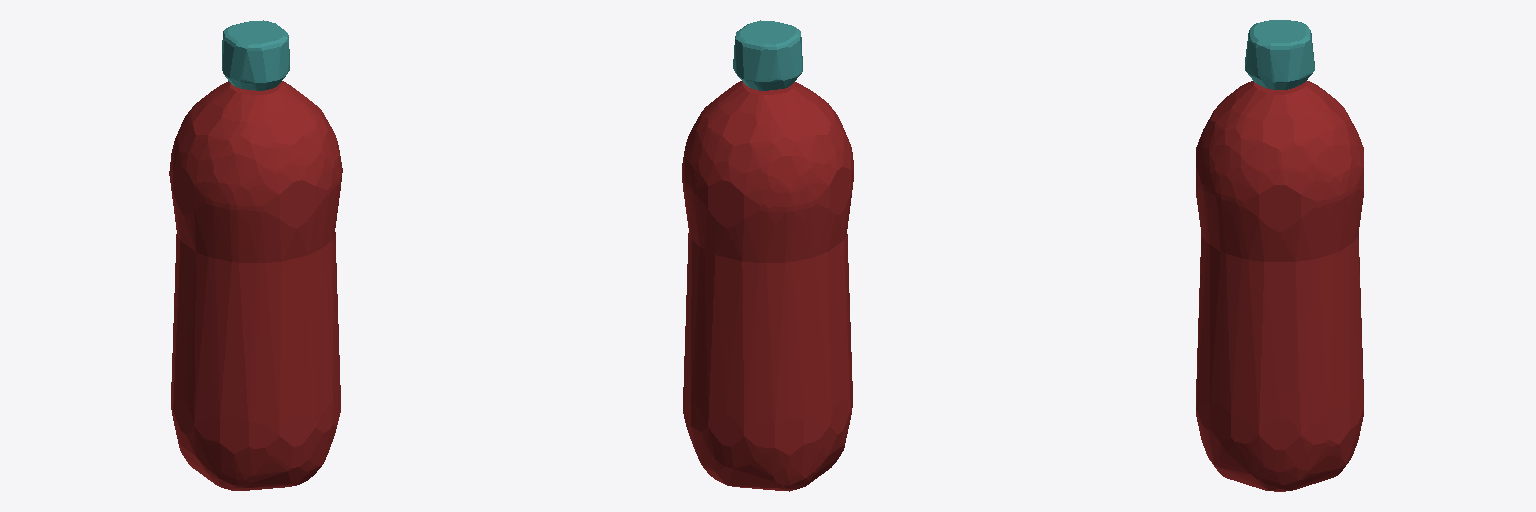
URDF robot description (root):
<robot name="root">
  <link name="bottle_body">
    <inertial>
      <origin xyz="0 0 0" rpy="0 0 0"/>
    </inertial>
    <mass value="1.00E-02"/>
    <visual>
      <origin xyz="0 0 0" rpy="0 0 0"/>
      <geometry>
        <mesh filename="core-bottle-3d295fccf7d4e4dfd317c475f024f3b8-coacd_convex_piece_2.obj" scale="1.0000E-01 1.0000E-01 1.0000E-01"/>
      </geometry>
      <material name="">
        <color rgba="6.00E-01 2.00E-01 2.00E-01 1"/>
      </material>
    </visual>
    <collision>
      <origin xyz="0 0 0" rpy="0 0 0"/>
      <geometry>
        <mesh filename="core-bottle-3d295fccf7d4e4dfd317c475f024f3b8-coacd_convex_piece_2.obj" scale="1.0000E-01 1.0000E-01 1.0000E-01"/>
      </geometry>
    </collision>
    <visual>
      <origin xyz="0 0 0" rpy="0 0 0"/>
      <geometry>
        <mesh filename="core-bottle-3d295fccf7d4e4dfd317c475f024f3b8-coacd_convex_piece_0.obj" scale="1.0000E-01 1.0000E-01 1.0000E-01"/>
      </geometry>
      <material name="">
        <color rgba="6.00E-01 2.00E-01 2.00E-01 1"/>
      </material>
    </visual>
    <collision>
      <origin xyz="0 0 0" rpy="0 0 0"/>
      <geometry>
        <mesh filename="core-bottle-3d295fccf7d4e4dfd317c475f024f3b8-coacd_convex_piece_0.obj" scale="1.0000E-01 1.0000E-01 1.0000E-01"/>
      </geometry>
    </collision>
  </link>
  <link name="bottle_cap">
    <origin xyz="0 0 0.002" rpy="0 0 0"/>
    <mass value="1.00E-02"/>
    <visual>
      <origin xyz="0 0 0.002" rpy="0 0 0"/>
      <geometry>
        <mesh filename="core-bottle-3d295fccf7d4e4dfd317c475f024f3b8-coacd_convex_piece_1.obj" scale="1.0000E-01 1.0000E-01 1.0000E-01"/>
      </geometry>
      <material name="">
        <color rgba="3.00E-01 6.00E-01 6.00E-01 1"/>
      </material>
    </visual>
    <collision>
      <origin xyz="0 0 0.002" rpy="0 0 0"/>
      <geometry>
        <mesh filename="core-bottle-3d295fccf7d4e4dfd317c475f024f3b8-coacd_convex_piece_1.obj" scale="1.0000E-01 1.0000E-01 1.0000E-01"/>
      </geometry>
    </collision>
  </link>
  <joint name="bottle_cap_joint" type="revolute">
    <origin xyz="0 0 0" rpy="0 0 0"/>
    <parent link="bottle_body"/>
    <child link="bottle_cap"/>
    <axis xyz="0 0 1"/>
    <limit lower="0.00" upper="6.28"/>
    <dynamics damping="0.05"/>
  </joint>
</robot>

--- Facts derived from the render (not from the file) ---
Views: 3 orthographic renders of the robot side by side, from view 1: azimuth 30°, elevation 25°; view 2: azimuth 150°, elevation 25°; view 3: azimuth 270°, elevation 25°.
Robot: root — 2 links, 1 joints (1 revolute); root link bottle_body; default pose: all joints at 0.
Links seen in each view (by area): view 1: bottle_body, bottle_cap; view 2: bottle_body, bottle_cap; view 3: bottle_body, bottle_cap.
Boxes of the visible links, bbox=[...] form: bottle_body: bbox=[169, 81, 342, 490]; bottle_cap: bbox=[222, 20, 289, 90]; bottle_body: bbox=[682, 81, 853, 491]; bottle_cap: bbox=[733, 20, 802, 90]; bottle_body: bbox=[1196, 81, 1363, 491]; bottle_cap: bbox=[1245, 20, 1314, 89].
Size in the robot's own frame: 0.0673 by 0.0673 by 0.1953 metres.
Meshes: 3 distinct files referenced, 3 mesh visuals loaded (3 OBJ).